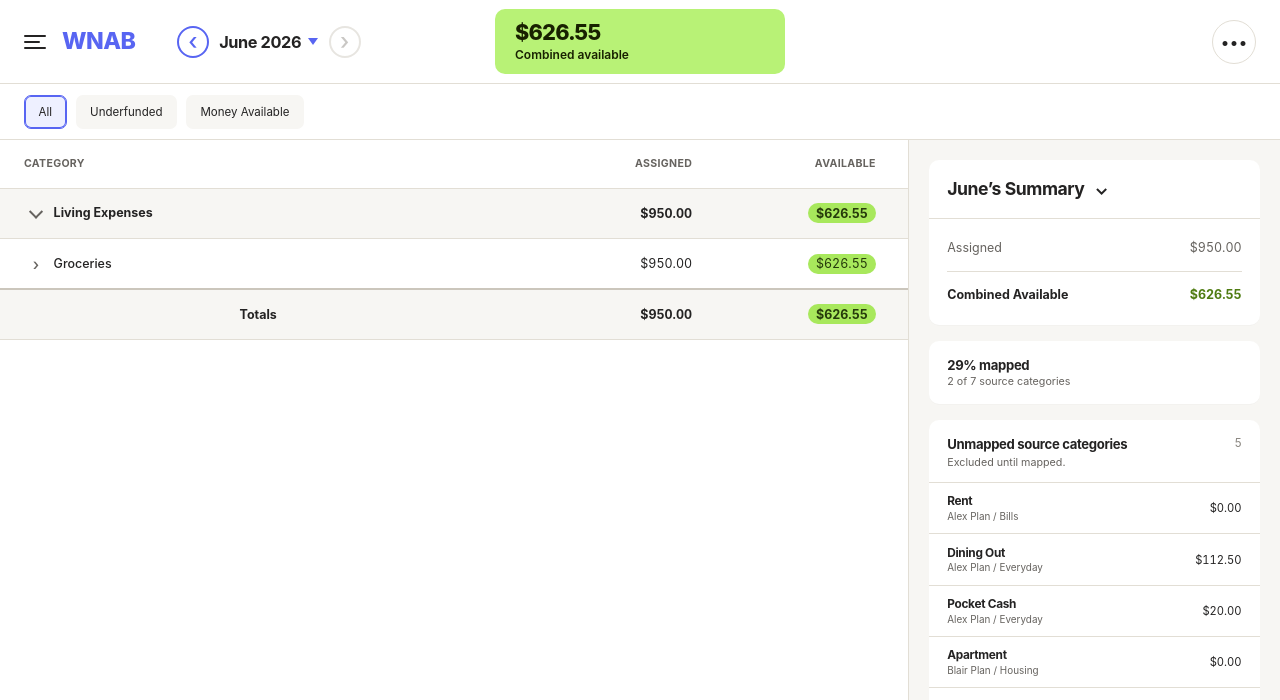
it: WNAB app › filters shared categories without changing the combined summary
Expected: the button with aria-label "Choose month, June 2026" is shown, [217,26,321,57]
Expected: the heading "Unmapped source categories" is shown, [947,436,1127,452]
Click the button "Underfunded" at [126, 112], box [76,94,177,128]
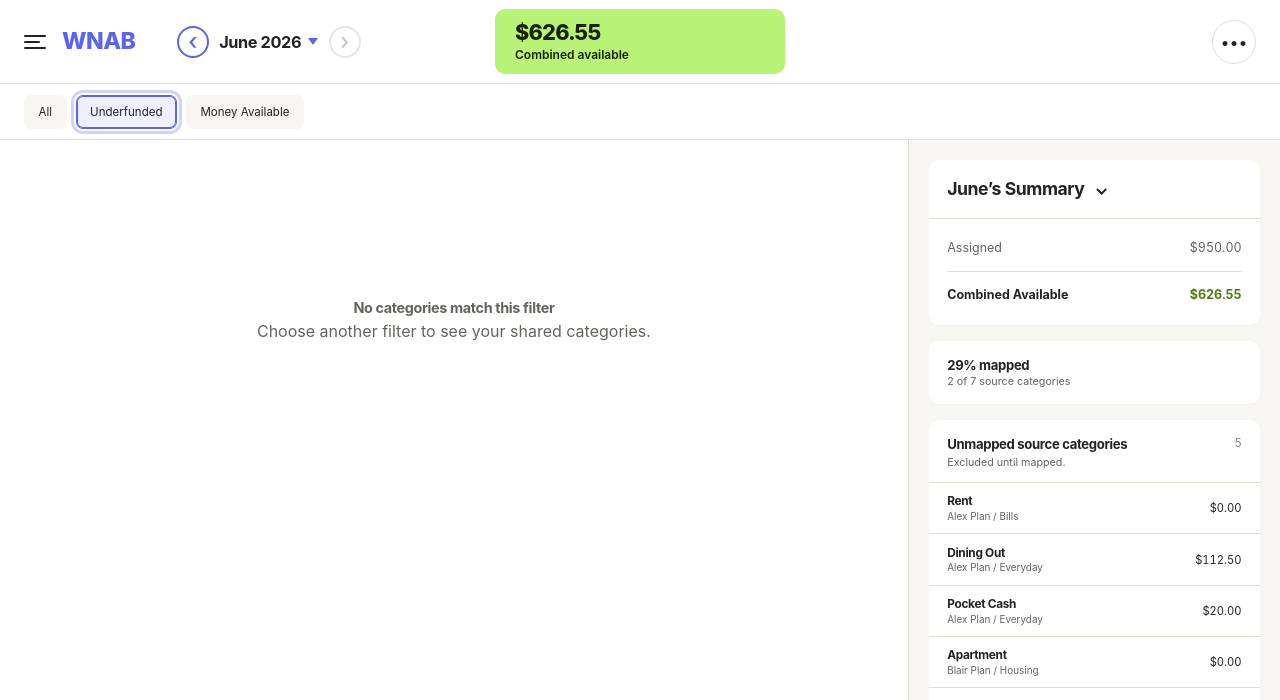
Expected: the text "Combined Available" is shown, [947,287,1068,302]
Now the heading "No categories match this filter" is shown, box [353,299,554,316]
Click the button "All" at [45, 112], box [24,94,67,128]
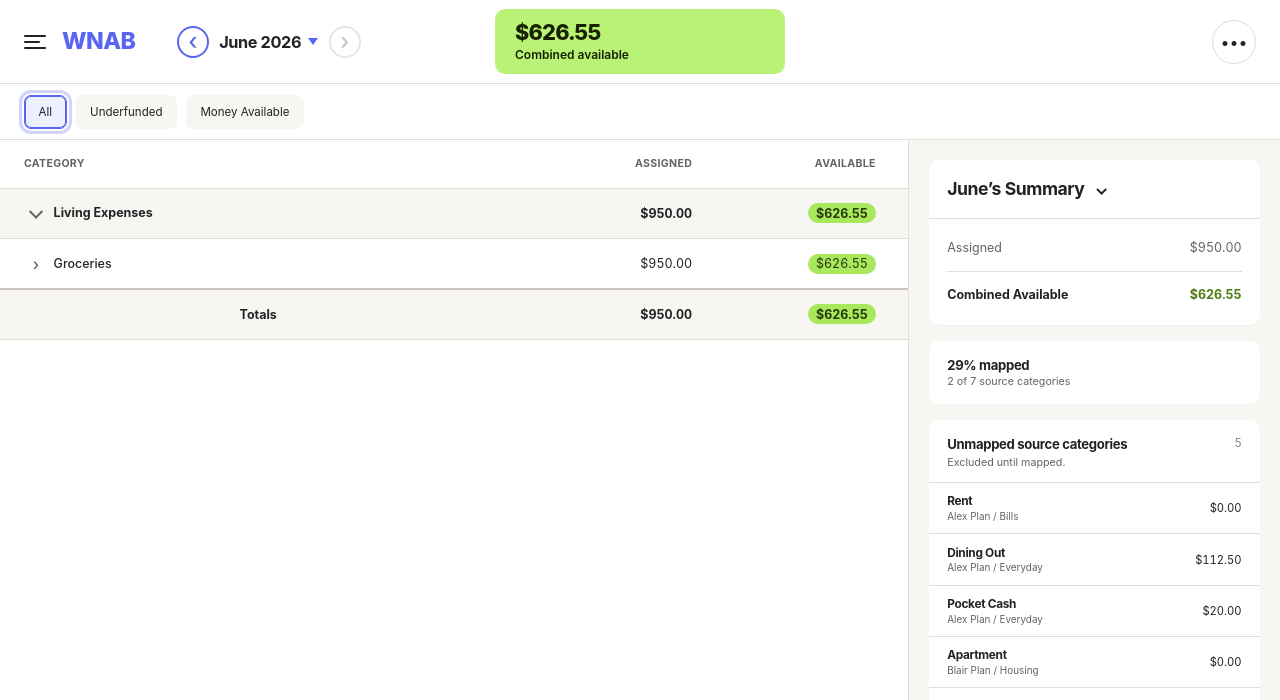
Now the row "› Groceries $950.00 $626.55" is shown, box [0,239,908,289]
